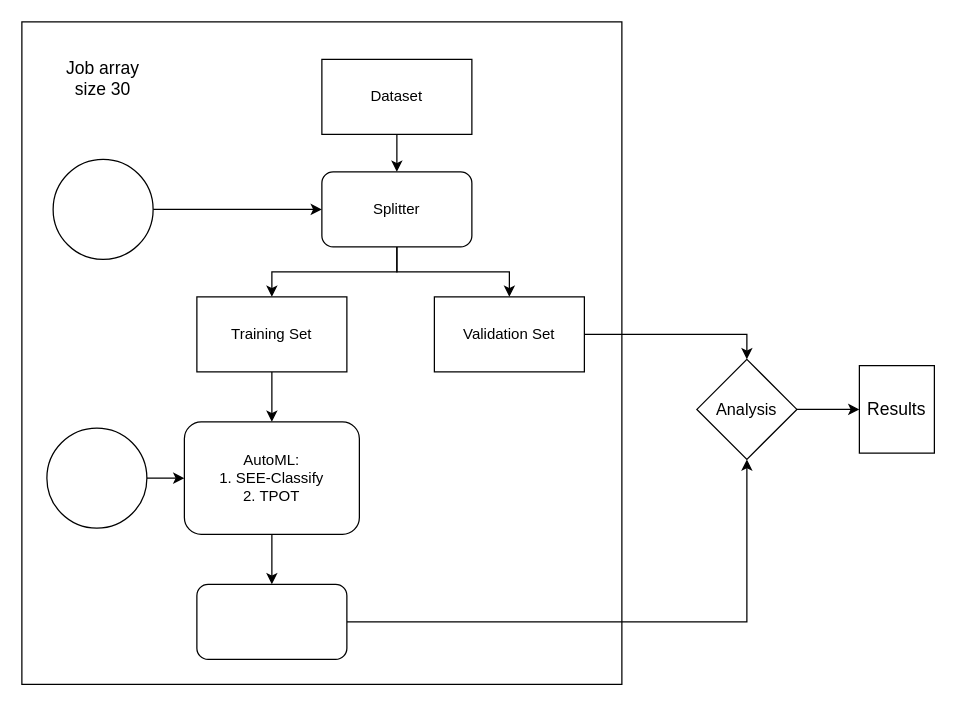
This 956x706 diagram has some shape labels left out. Each missing label, with the centre of its shape:
"10-hour time budget" goes at point (96, 477).
"Best result" goes at point (271, 621).
"Unique Random Seed" goes at point (102, 208).
